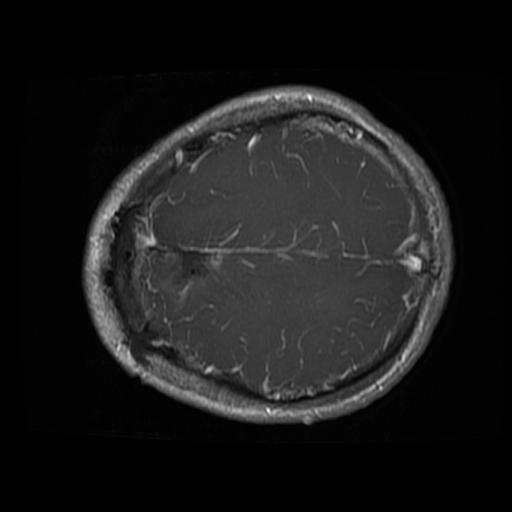glioma: (113, 204, 241, 351)
